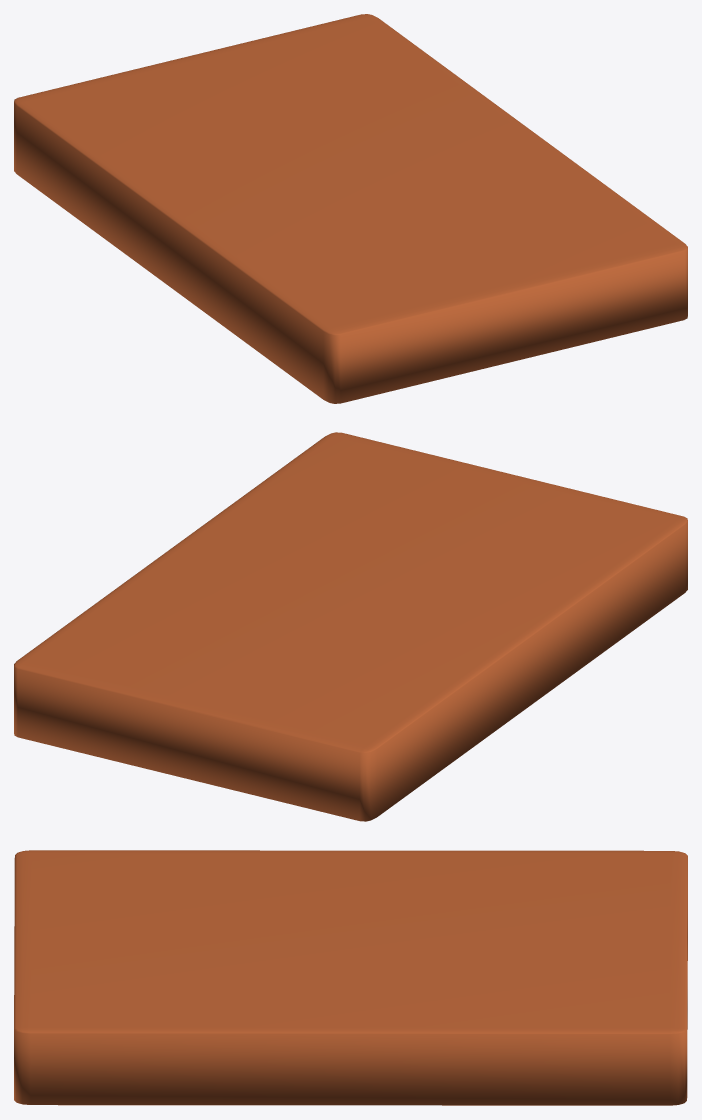
The model's file is wood.fbx.
3 views of the same model, one above another, from view 1: azimuth 30°, elevation 25°; view 2: azimuth 150°, elevation 25°; view 3: azimuth 270°, elevation 25° (orthographic). The views are drawn at different scales.
Visible parts, largest first — view 1: WOOD; view 2: WOOD; view 3: WOOD.
Part boxes in pixels (bbox=[...]): WOOD: bbox=[14, 14, 687, 403]; WOOD: bbox=[14, 432, 687, 821]; WOOD: bbox=[14, 850, 687, 1105].
Bounding box in the file's own units: 969 × 184 × 1502.
